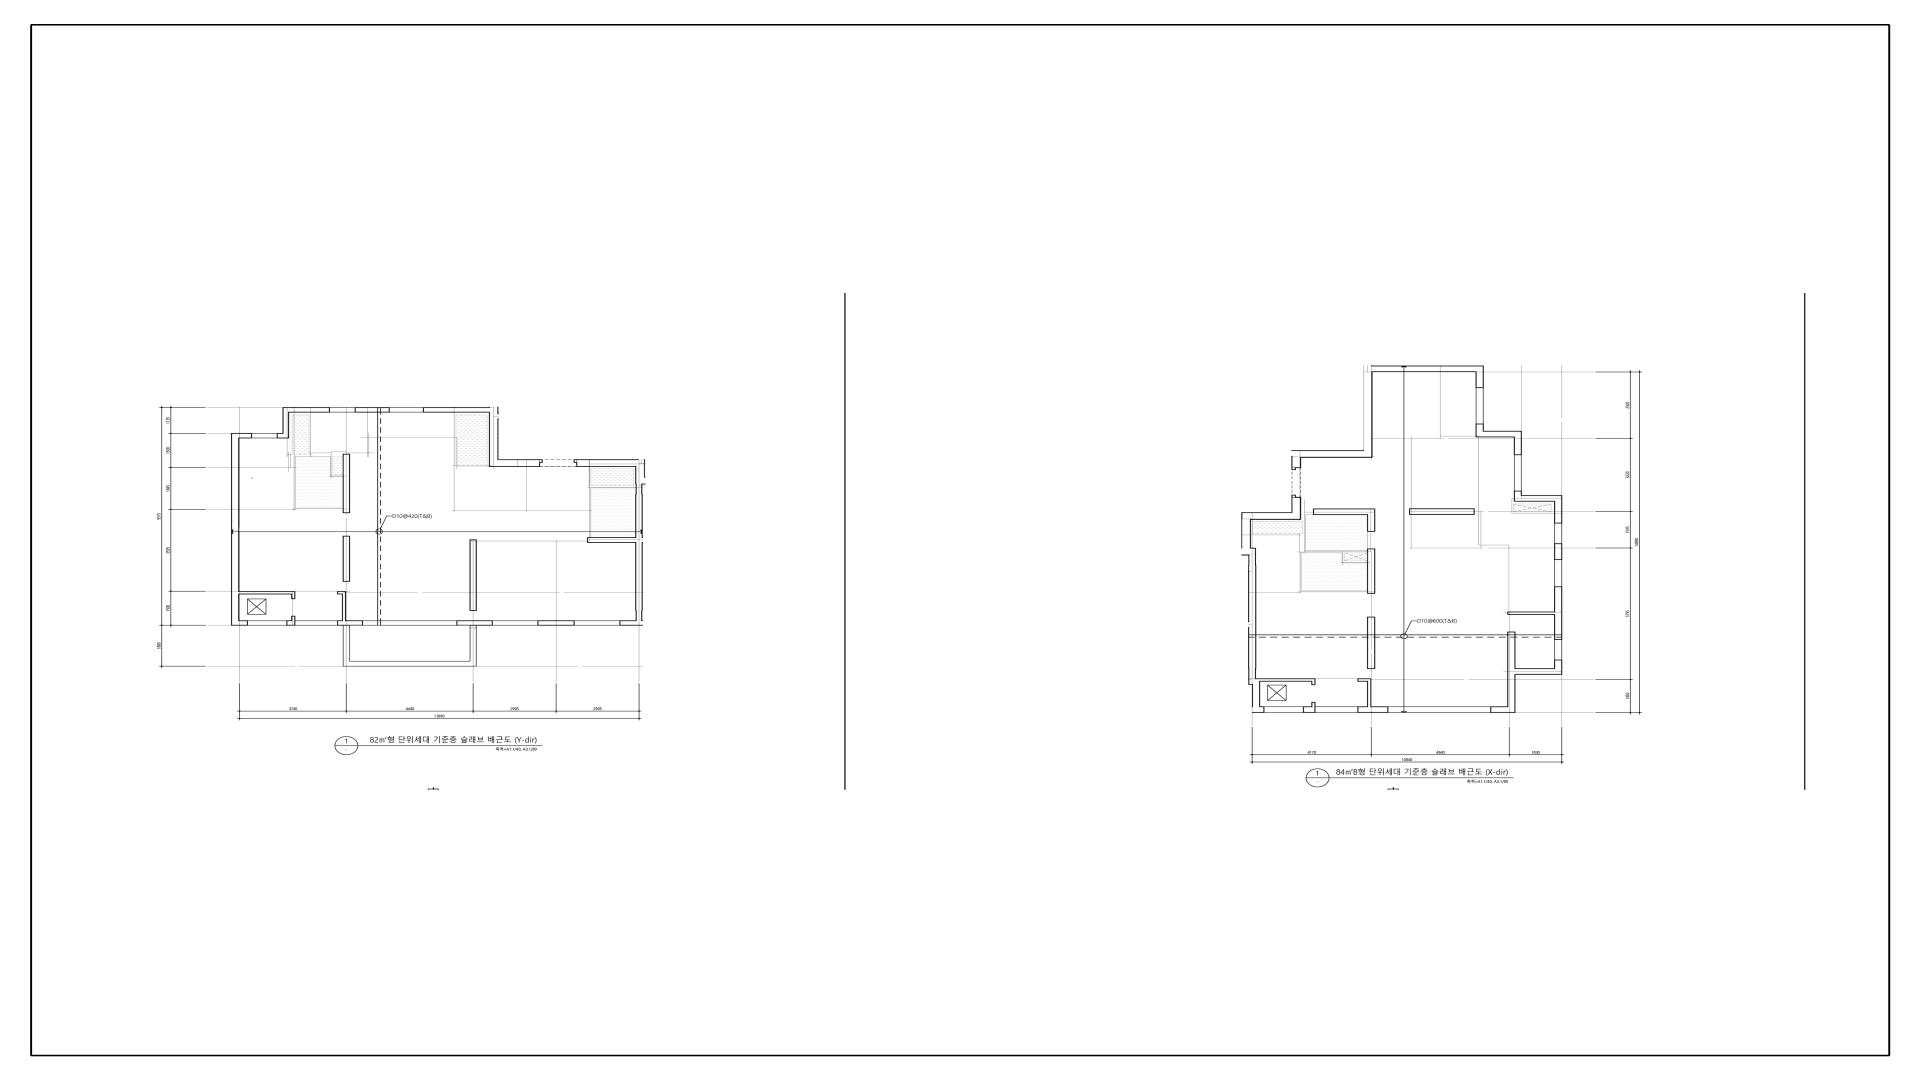wall: (231, 439, 239, 621), (1249, 555, 1257, 678), (636, 484, 642, 620), (1364, 365, 1484, 372), (1364, 372, 1373, 450), (1507, 632, 1515, 707), (469, 539, 477, 611), (1302, 450, 1373, 458), (576, 459, 645, 467), (489, 413, 498, 467), (343, 454, 351, 513), (1410, 509, 1474, 516), (1555, 587, 1563, 640), (1313, 509, 1375, 516), (1367, 617, 1375, 669), (423, 407, 498, 413), (1251, 512, 1302, 520), (1241, 512, 1251, 547), (1367, 549, 1375, 593), (498, 459, 541, 467), (1522, 495, 1563, 502), (587, 537, 636, 543), (343, 535, 349, 582), (1515, 669, 1555, 675), (1484, 431, 1522, 438), (289, 407, 330, 413), (239, 591, 291, 595), (1357, 707, 1389, 713), (1251, 684, 1261, 707), (456, 621, 493, 626), (1291, 450, 1302, 468), (355, 407, 390, 413), (1555, 502, 1563, 524), (282, 407, 289, 433), (1490, 707, 1515, 713), (636, 467, 645, 484), (1291, 497, 1302, 512), (538, 621, 575, 625), (231, 433, 252, 439), (1514, 438, 1522, 455), (1555, 543, 1563, 560), (1261, 679, 1311, 682), (620, 621, 644, 626), (1507, 612, 1555, 615), (1555, 659, 1563, 675), (1367, 516, 1375, 531), (1476, 372, 1484, 388), (1476, 423, 1484, 438), (1241, 547, 1255, 555), (1367, 679, 1371, 707), (338, 621, 363, 625), (342, 595, 345, 620), (231, 621, 248, 626), (1303, 707, 1316, 713), (1251, 707, 1265, 713), (1514, 491, 1522, 501), (1249, 678, 1261, 684), (277, 433, 289, 438), (286, 621, 295, 626), (1357, 678, 1367, 682), (338, 591, 345, 595), (291, 591, 295, 599), (1312, 679, 1316, 686), (1312, 702, 1316, 707), (291, 616, 295, 620), (1291, 495, 1296, 497), (1291, 468, 1296, 471), (541, 459, 543, 463), (574, 459, 576, 463)
